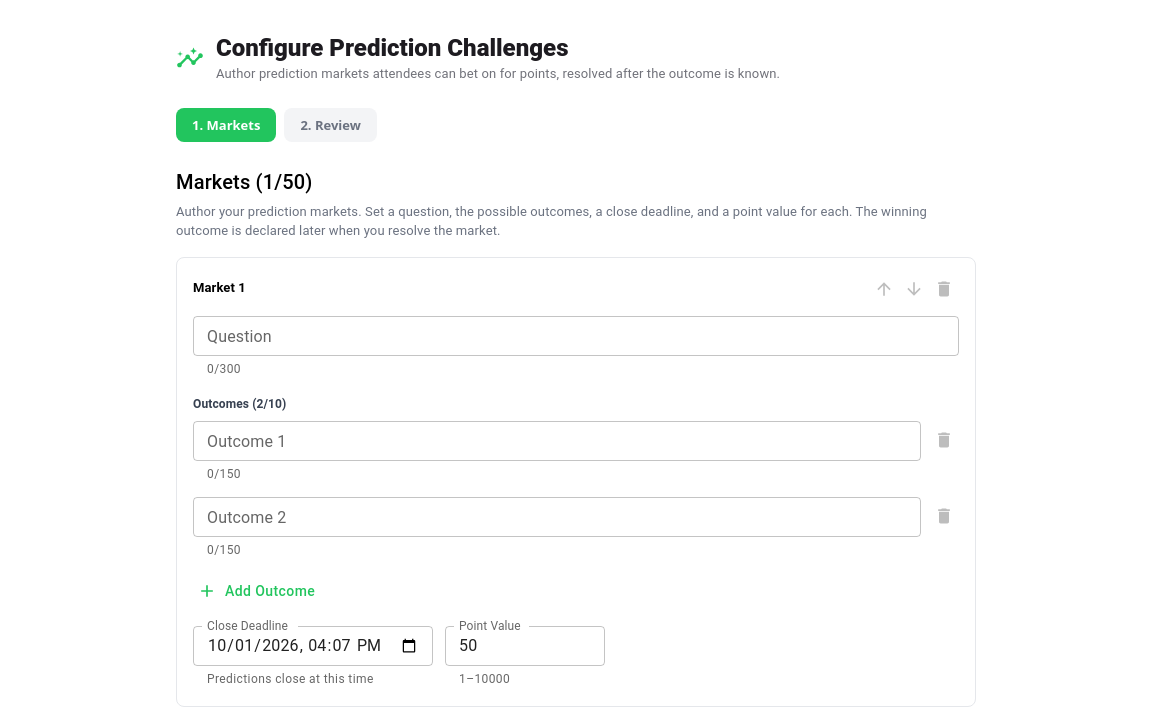
Test: PredictionConfig › blocks save on invalid data and shows field errors
Step 1. Click the text "2. Review" → (331, 124), box [284, 108, 377, 142]
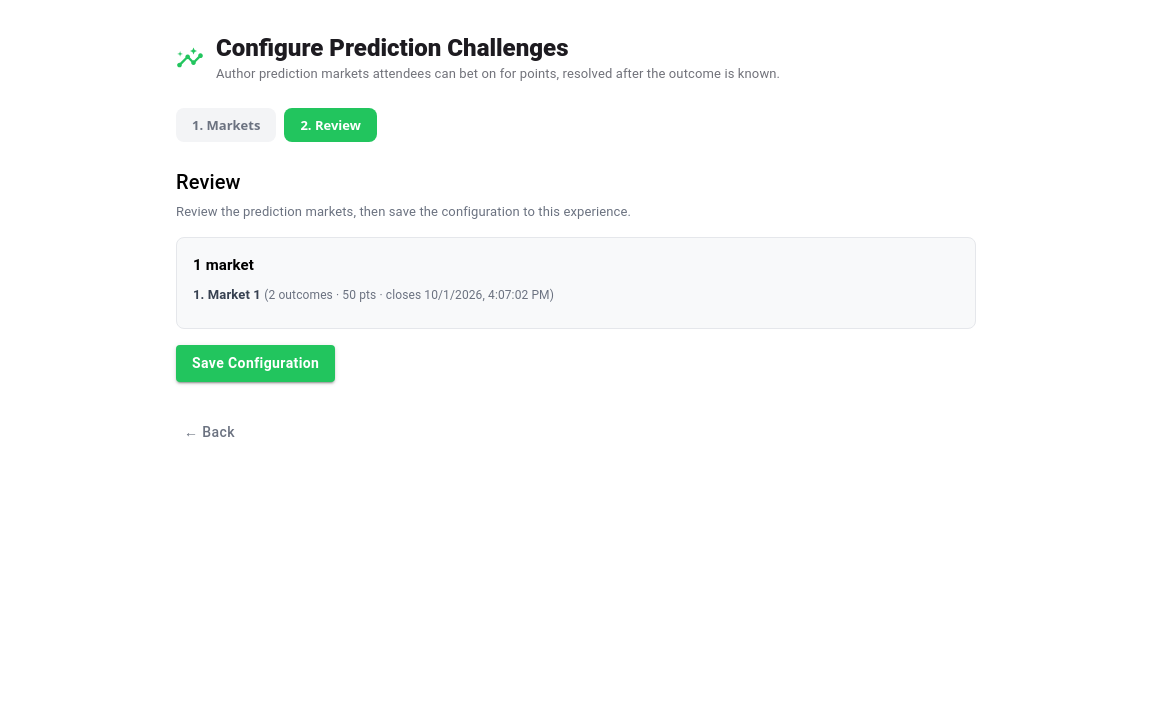
Check: the button "Save Configuration" is shown
Step 2. Click the button "Save Configuration" → (256, 363), box [176, 345, 335, 382]
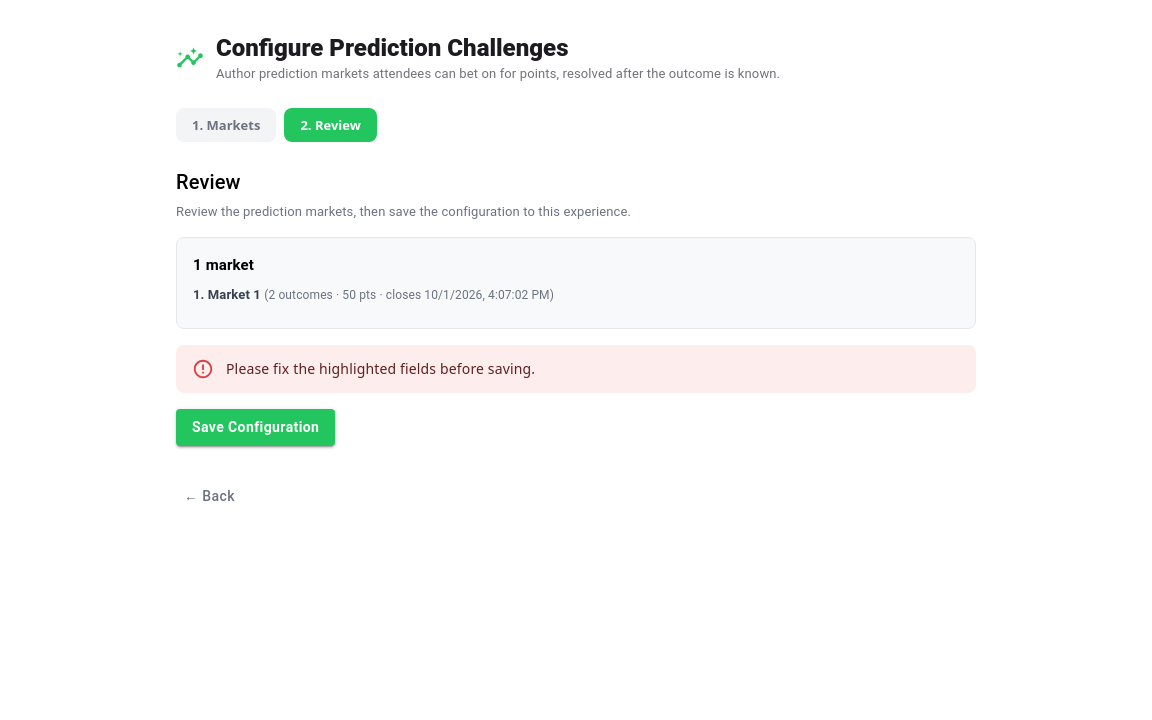
Check: the text "Please fix the highlighted fields before saving." is shown, box [226, 359, 535, 378]
Step 3. Click the text "1. Markets" → (226, 124), box [176, 108, 276, 142]
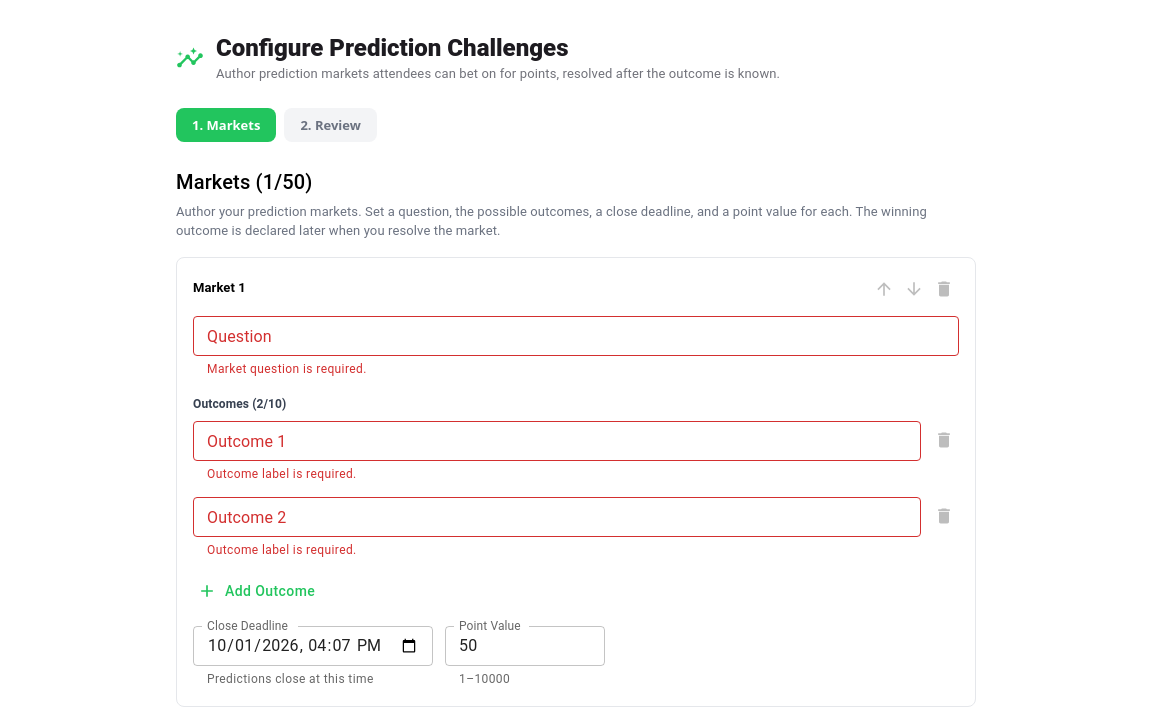
Check: the text "Market question is required." is shown, box [207, 362, 367, 376]
